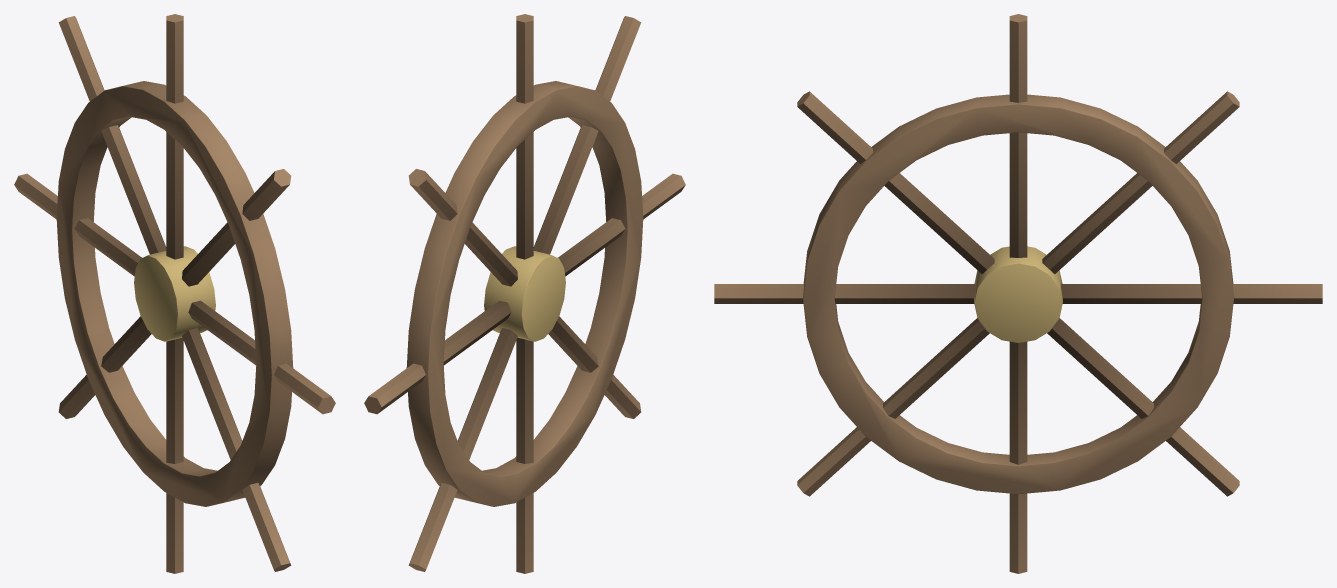
Rendered from wheel.glb.
3 renders of one model, left to right at view 1: azimuth 30°, elevation 25°; view 2: azimuth 150°, elevation 25°; view 3: azimuth 270°, elevation 25°, orthographic.
Parts seen in each view (by area): view 1: boat_oak, boat_brass2; view 2: boat_oak, boat_brass2; view 3: boat_oak, boat_brass2.
Part boxes in pixels (x1,y1,x2,y2): boat_oak: (14,14,335,573); boat_brass2: (134,246,215,341); boat_oak: (364,14,685,573); boat_brass2: (484,246,565,341); boat_oak: (714,14,1322,573); boat_brass2: (974,246,1062,342).
Size of the model in its own units: 0.07 by 0.96 by 0.96.
